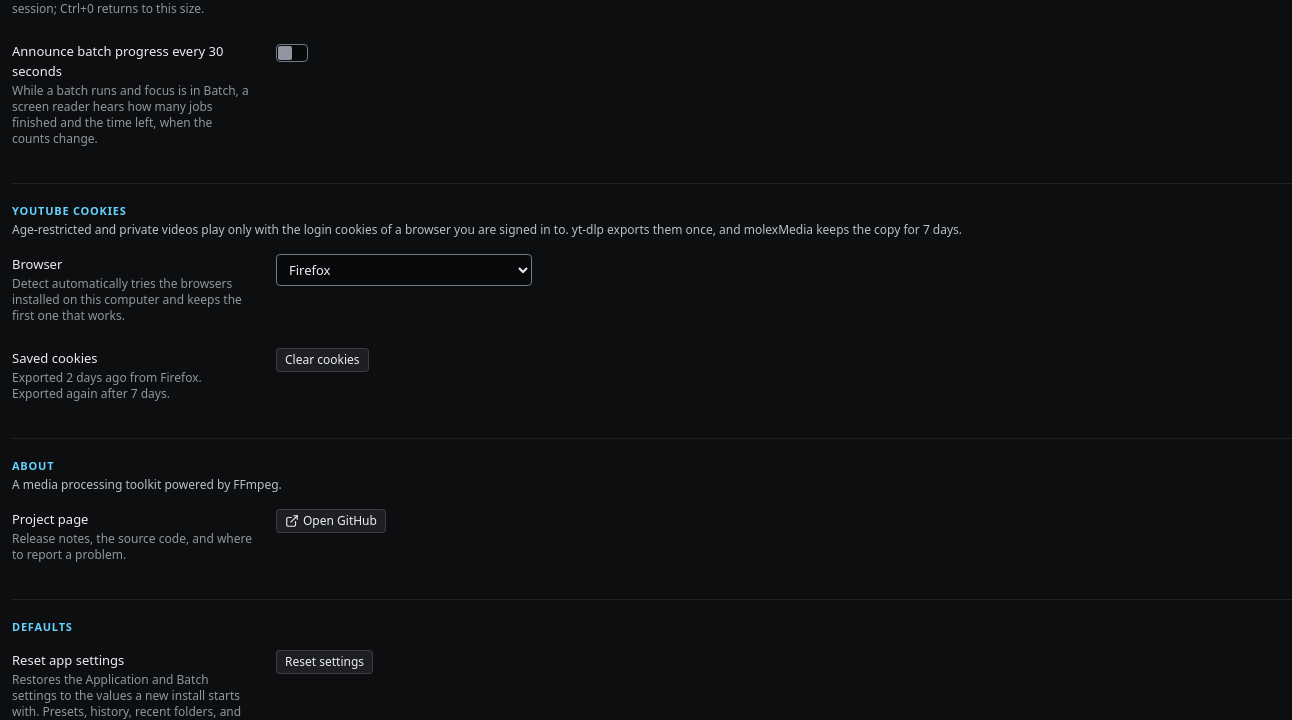
Test: YouTube cookies › clears the saved cookies and the browser choice, and disables Clear while there are none
(page scrolled)
Expected: the text "Exported 2 days ago from Firefox. Exported again after 7 days." is shown, 12,369 -> 202,402
Click the button "Clear cookies" at point(322, 360), box 276,348 -> 369,372
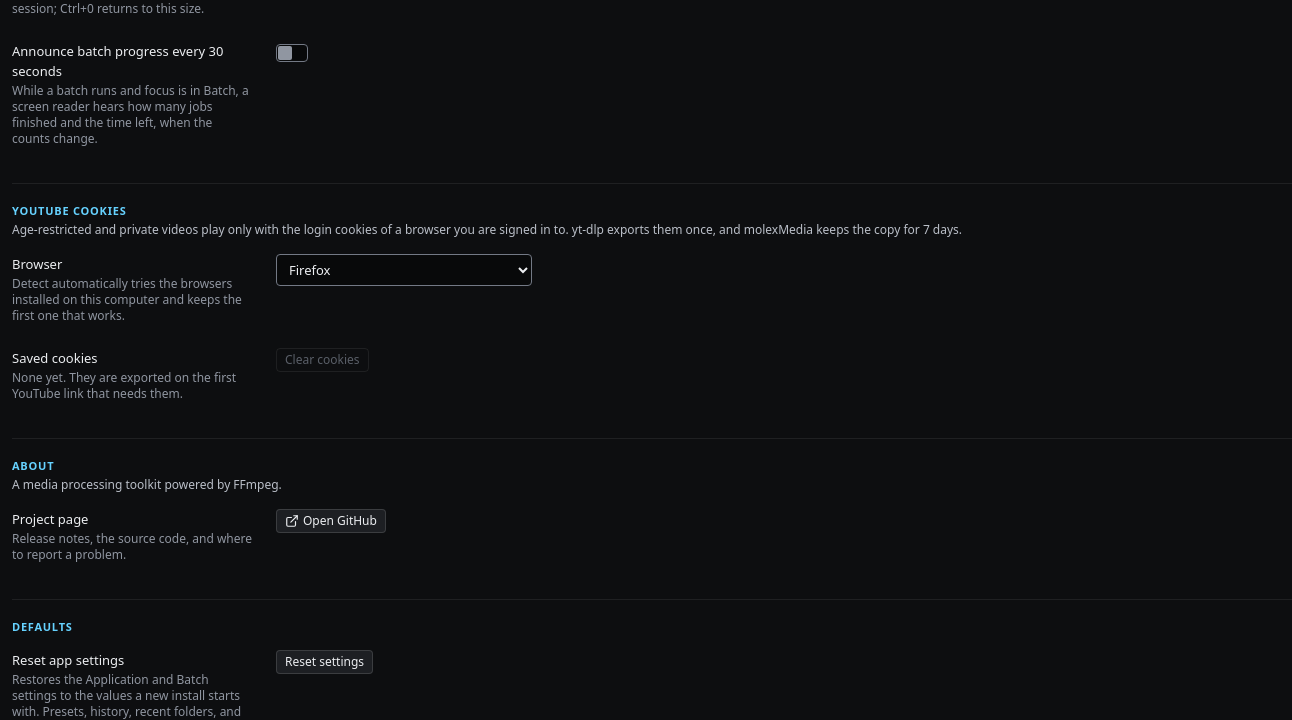
Result: the text "None yet. They are exported on the first YouTube link that needs them." is shown at 12,370 -> 252,402
Result: the button "Clear cookies" is disabled at 276,348 -> 369,372
